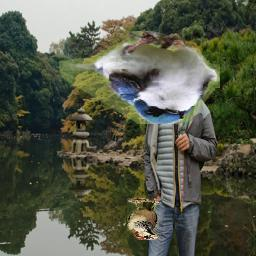Sparrow: (127, 198, 159, 240)
Swallow: (60, 32, 221, 125)
